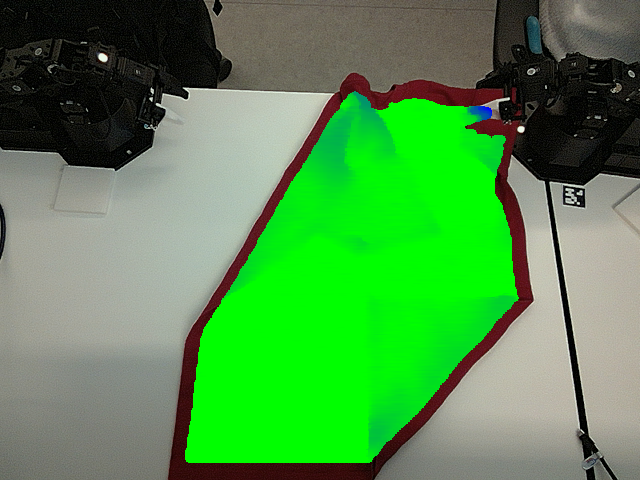V: (352, 286, 414, 348), (399, 206, 459, 249)
